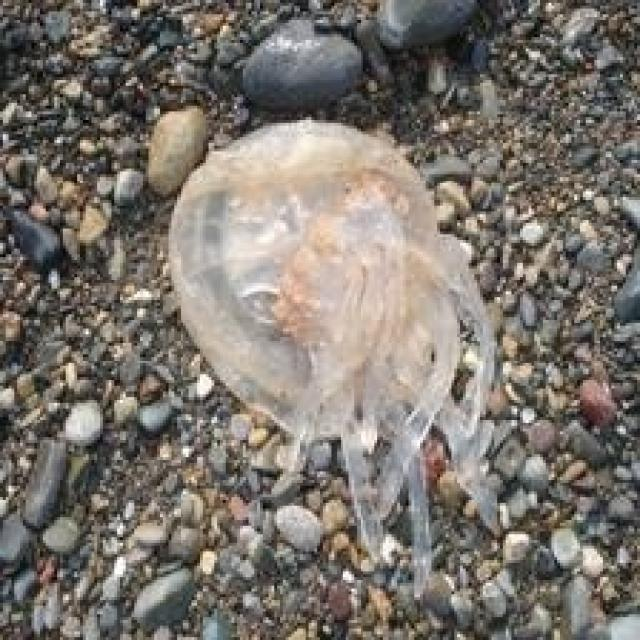Box-jellyfish: (163, 114, 503, 600)
